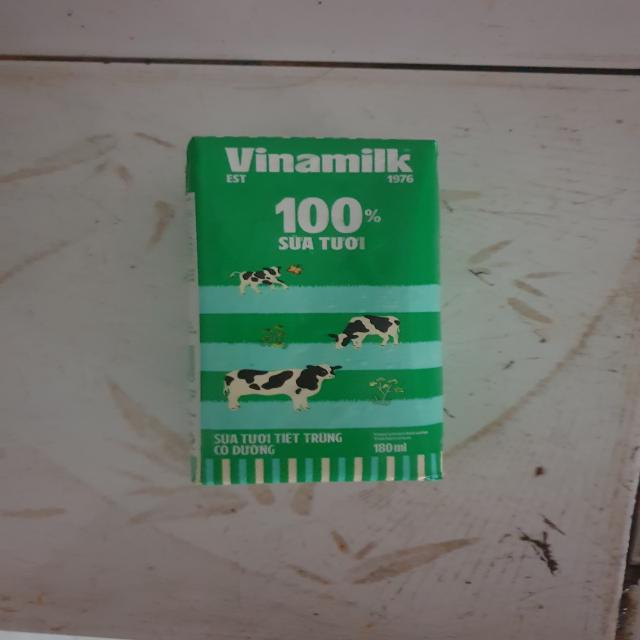Vina: (173, 133, 454, 490)
